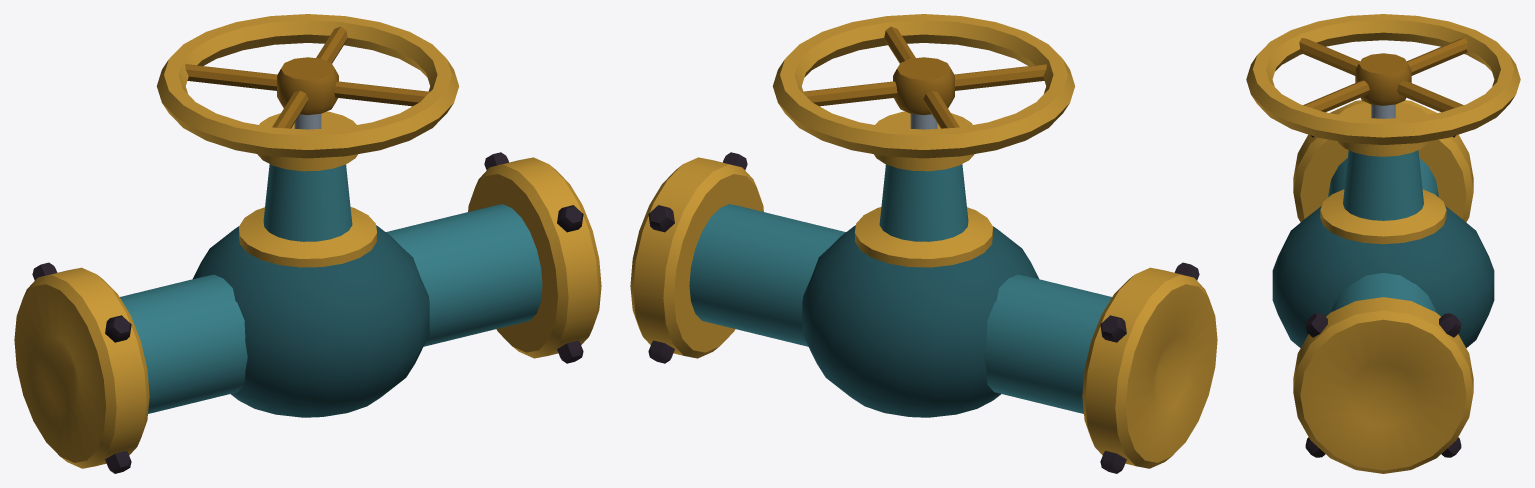
File: Valve_24.glb
3 views of the same model, side by side, from view 1: azimuth 30°, elevation 25°; view 2: azimuth 150°, elevation 25°; view 3: azimuth 270°, elevation 25° (orthographic). The views are drawn at different scales.
Parts seen in each view (by area): view 1: Valve_24; view 2: Valve_24; view 3: Valve_24.
Boxes of the visible parts, bbox=[...] form: Valve_24: bbox=[14, 14, 601, 473]; Valve_24: bbox=[630, 14, 1217, 473]; Valve_24: bbox=[1246, 14, 1520, 473].
Bounding box in the file's own units: 2.96 × 1.92 × 1.56.
